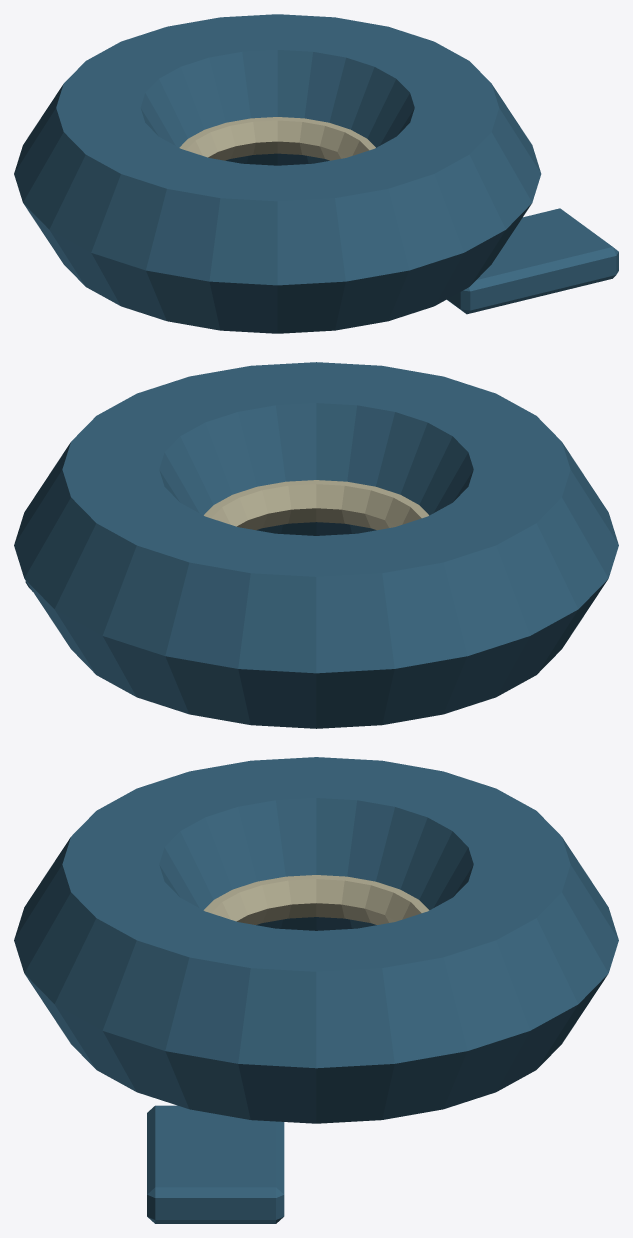
File: loot_duct_tape.glb
3 views of the same model, one above another, from view 1: azimuth 30°, elevation 25°; view 2: azimuth 150°, elevation 25°; view 3: azimuth 270°, elevation 25° (orthographic). The views are drawn at different scales.
Visible parts, largest first — view 1: loot_duct_tape; view 2: loot_duct_tape; view 3: loot_duct_tape.
Part boxes in pixels (x1=…): loot_duct_tape: x1=14, y1=14, x2=618, y2=333; loot_duct_tape: x1=14, y1=362, x2=618, y2=728; loot_duct_tape: x1=14, y1=757, x2=618, y2=1223.
Size of the model in its own units: 0.164 by 0.0578 by 0.15.
